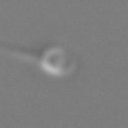normal: (1, 41, 41, 64)
